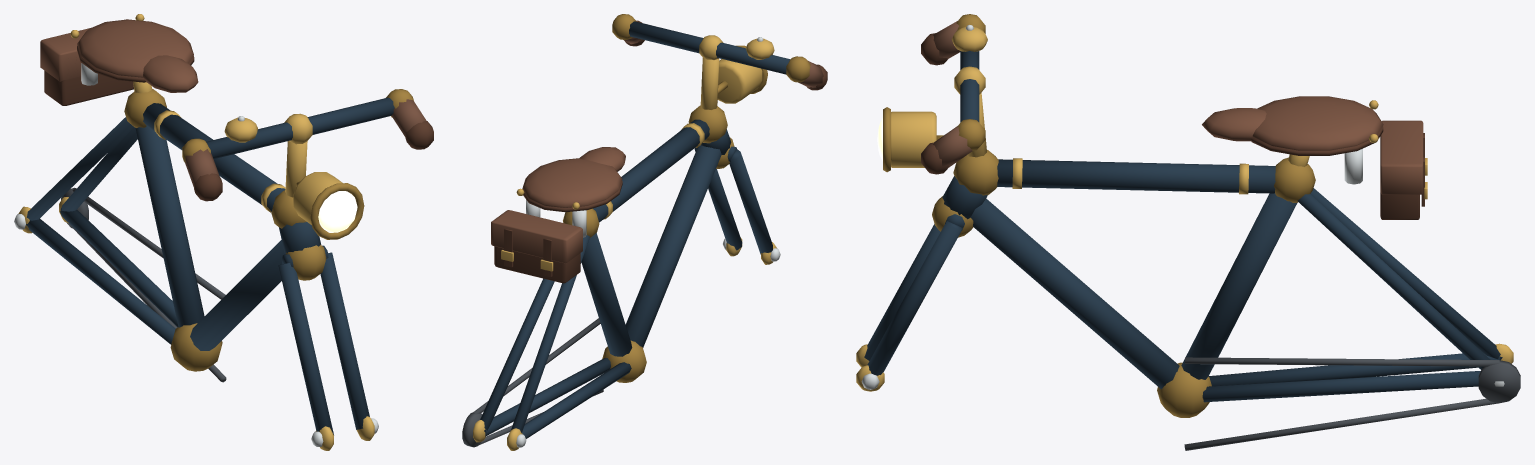
File: knowitowl_bike.glb
The picture shows the model from 3 angles, left to right: view 1: azimuth 30°, elevation 25°; view 2: azimuth 150°, elevation 25°; view 3: azimuth 270°, elevation 25°; orthographic projection. The views are drawn at different scales.
Parts seen in each view (by area): view 1: KnowItOwlBike; view 2: KnowItOwlBike; view 3: KnowItOwlBike.
Part boxes in pixels (x1,y1,x2,y2): KnowItOwlBike: (14,14,433,450); KnowItOwlBike: (462,14,827,450); KnowItOwlBike: (856,14,1520,450).
Bounding box in the file's own units: 1.75 × 2.55 × 4.01.
